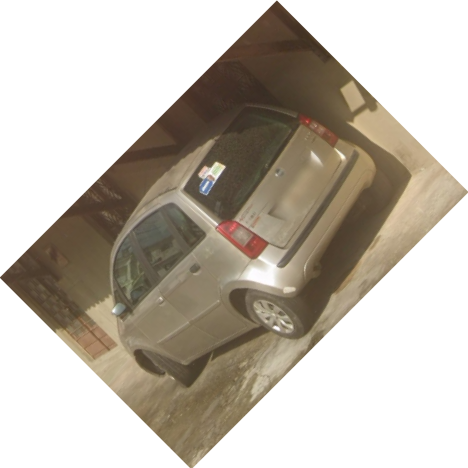car: (108, 103, 391, 380)
